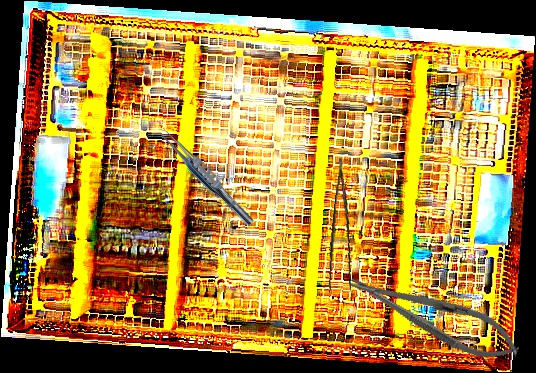Needle Holder: (342, 260, 527, 372)
Tissue Forceps: (153, 123, 259, 230), (324, 158, 365, 299)
